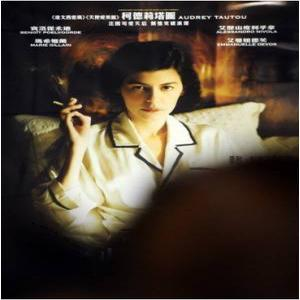cigarette: (51, 99, 75, 112)
